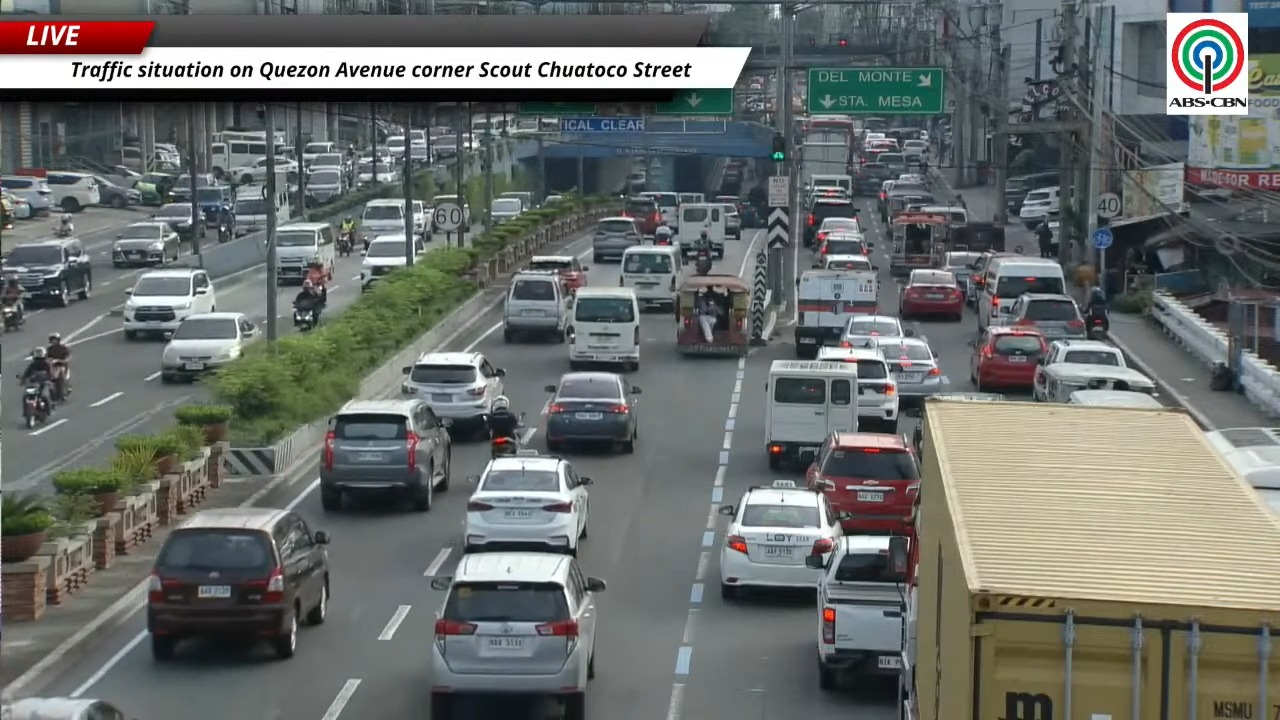bus: (211, 130, 267, 176), (805, 115, 856, 137)
car: (430, 552, 605, 719), (146, 507, 330, 660), (320, 398, 451, 511), (719, 480, 842, 598), (463, 453, 592, 554), (806, 431, 919, 533), (401, 352, 505, 436), (545, 372, 640, 452), (816, 347, 898, 432), (161, 312, 259, 382), (122, 268, 216, 339), (0, 237, 91, 306), (1033, 339, 1127, 400), (970, 326, 1047, 391), (877, 337, 946, 404), (1007, 293, 1086, 339), (900, 269, 963, 321), (112, 221, 180, 267), (3, 697, 130, 719), (360, 233, 406, 291), (966, 251, 1013, 307), (804, 196, 856, 246), (592, 216, 642, 263), (44, 171, 100, 212), (529, 255, 588, 293), (840, 315, 910, 347), (0, 175, 54, 215), (940, 251, 981, 303), (813, 231, 871, 267), (151, 203, 204, 241), (1019, 186, 1059, 228), (621, 196, 662, 235), (306, 166, 347, 205), (93, 176, 140, 208), (430, 194, 470, 231), (356, 157, 399, 186), (816, 217, 863, 242), (228, 157, 266, 184), (490, 198, 526, 226), (821, 254, 877, 270), (0, 192, 33, 219), (722, 203, 741, 239), (167, 173, 191, 201), (935, 392, 1006, 401), (902, 140, 927, 162)
motorcycle: (23, 382, 50, 428), (50, 360, 70, 402), (1086, 307, 1107, 339), (0, 304, 24, 332), (491, 435, 521, 457), (491, 436, 519, 458), (293, 308, 315, 331), (694, 249, 712, 275), (337, 232, 354, 256), (1088, 316, 1105, 339), (217, 223, 233, 243), (55, 224, 74, 238)
truck: (891, 399, 1279, 719), (805, 535, 906, 689), (794, 269, 878, 359), (800, 132, 850, 186)
